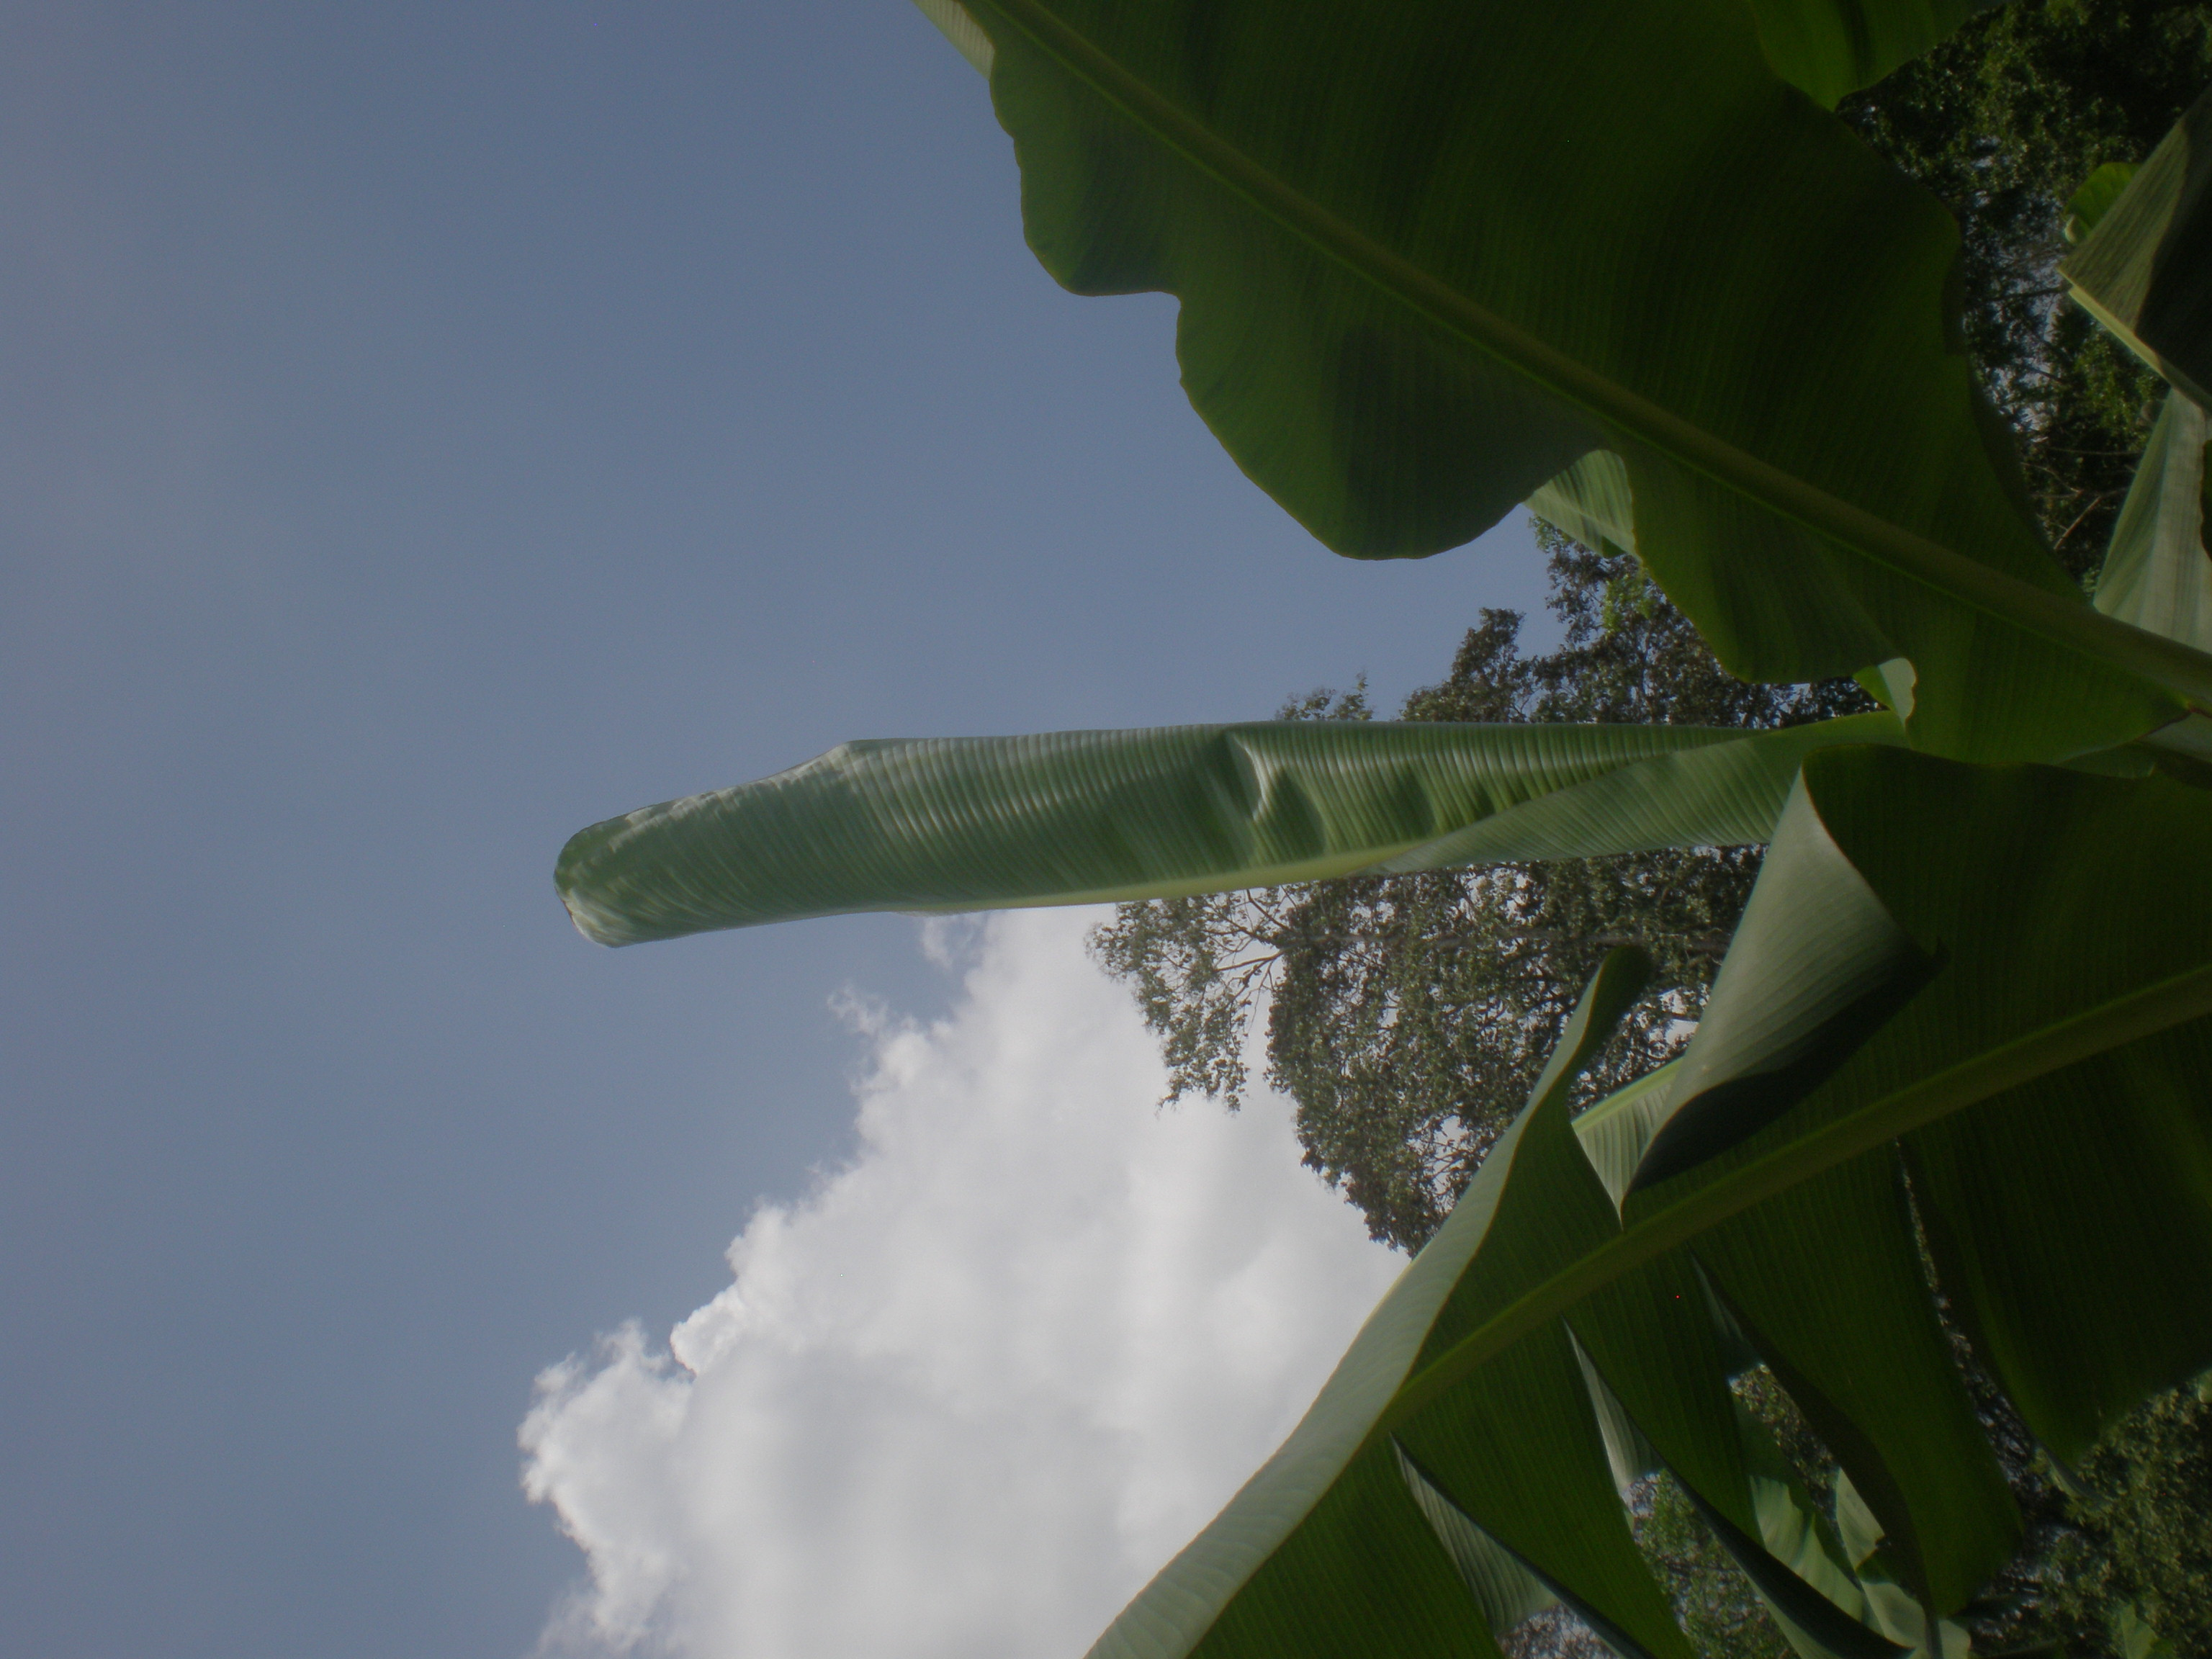candleleafs: (554, 720, 1733, 957)
